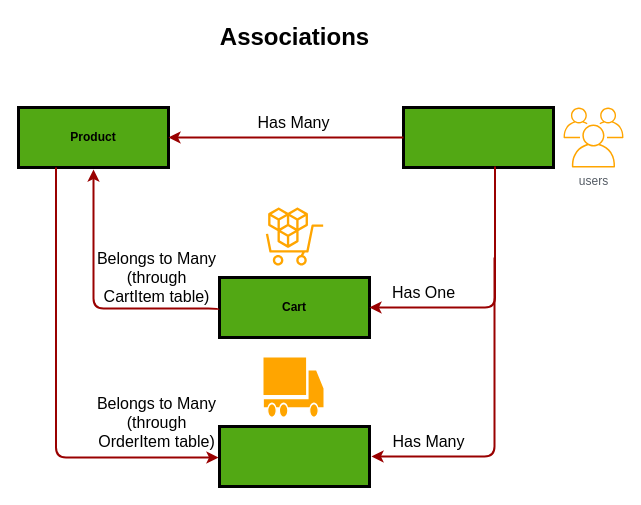
The diagram is 641 pixels wide and 505 high, and some of its shapes have lost their labels. Here are the shapes that lost their labels. From the top down, the centre of each, then its label:
point 478,137: User
point 294,456: Order
